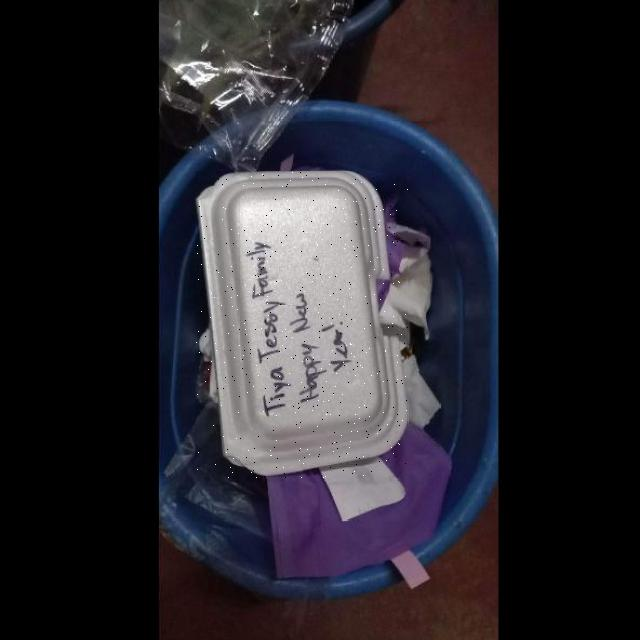styrofoam: (196, 171, 408, 479)
